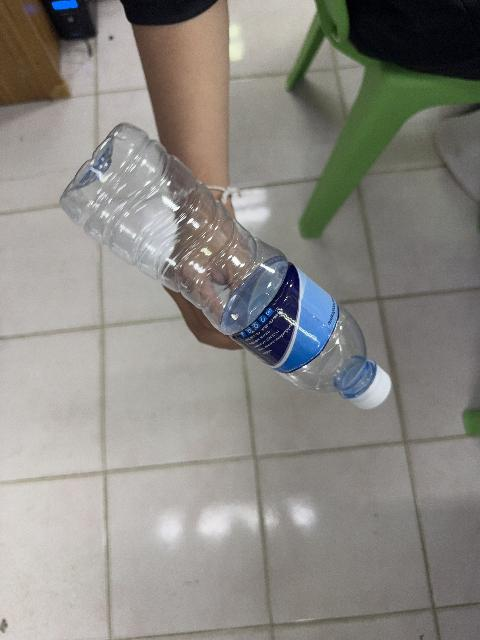bottle: (61, 124, 390, 408)
